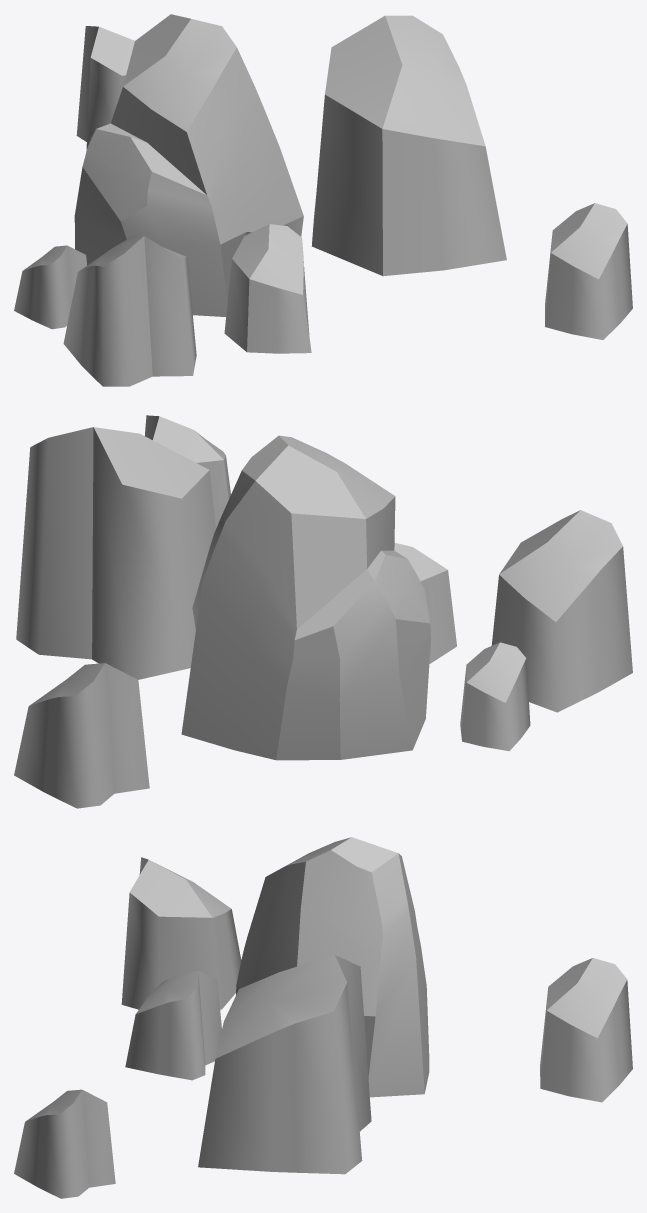
The model's file is small_rock.obj.
3 views of the same model, one above another, from view 1: azimuth 30°, elevation 25°; view 2: azimuth 150°, elevation 25°; view 3: azimuth 270°, elevation 25° (orthographic). The views are drawn at different scales.
Visible parts, largest first — view 1: Resource_Rock_3; view 2: Resource_Rock_3; view 3: Resource_Rock_3.
Part boxes in pixels (x1,y1,x2,y2): Resource_Rock_3: (14, 14, 632, 386); Resource_Rock_3: (14, 415, 632, 808); Resource_Rock_3: (14, 837, 632, 1198).
Bounding box in the file's own units: 0.3917 × 0.1897 × 0.4608.
1 material, 1 textured.
